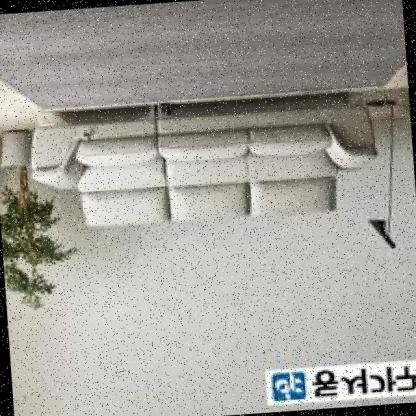Sofa: (18, 62, 394, 245)
